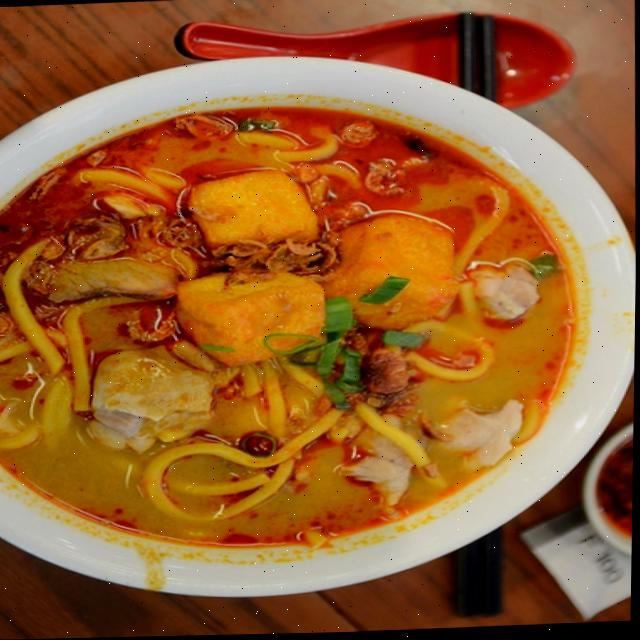面条主食: (0, 54, 616, 594)
